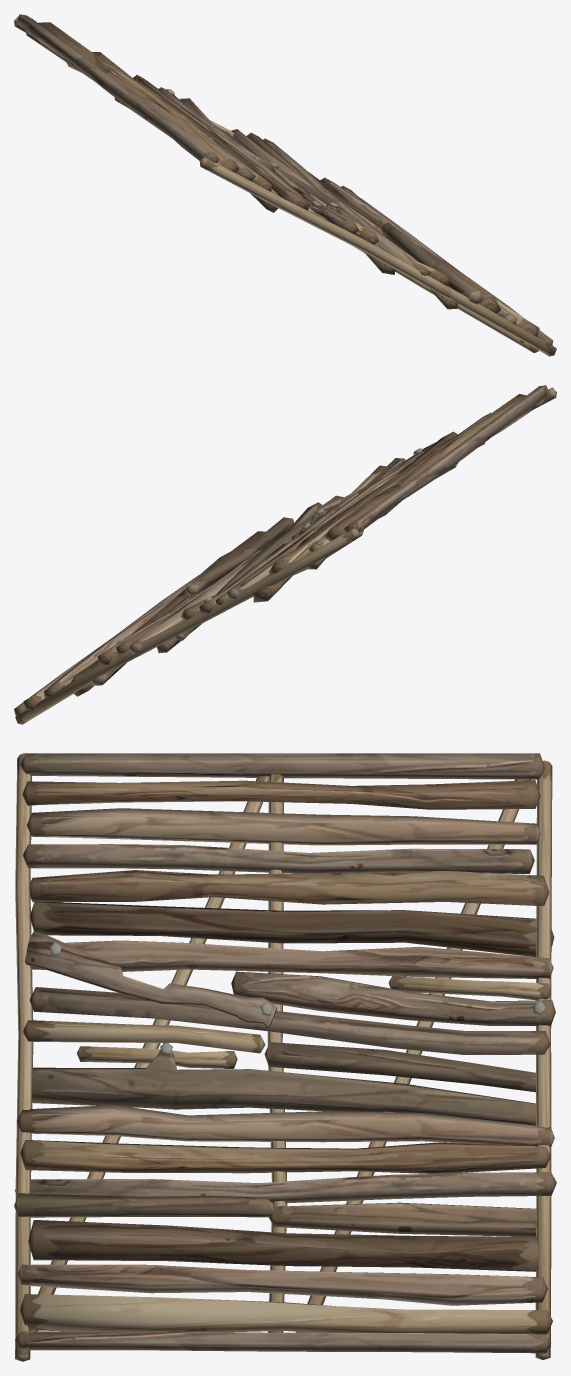
File: wood-ramp.glb
The picture shows the model from 3 angles, top to bottom: view 1: azimuth 30°, elevation 25°; view 2: azimuth 150°, elevation 25°; view 3: azimuth 270°, elevation 25°; orthographic projection. The views are drawn at different scales.
Visible parts, largest first — view 1: PBW_W1_StairW.dmx-static; view 2: PBW_W1_StairW.dmx-static; view 3: PBW_W1_StairW.dmx-static.
Boxes of the visible parts, bbox=[...] form: PBW_W1_StairW.dmx-static: bbox=[14, 14, 556, 356]; PBW_W1_StairW.dmx-static: bbox=[14, 385, 556, 724]; PBW_W1_StairW.dmx-static: bbox=[14, 753, 556, 1361].
Size of the model in its own units: 5.55 by 4.27 by 5.45.
1 material, 1 textured.
